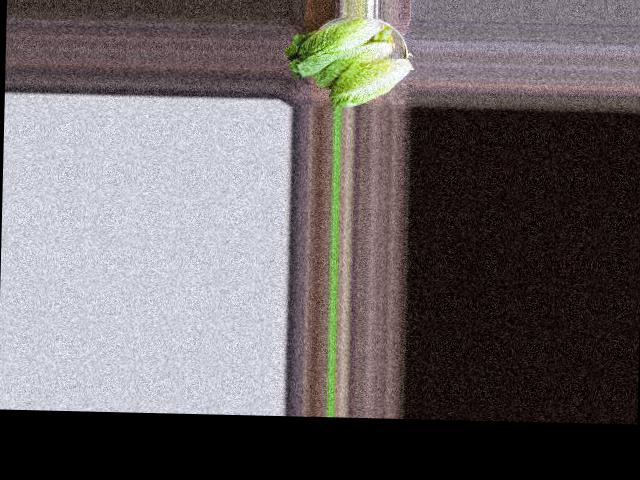lettuce: (288, 16, 391, 81)
